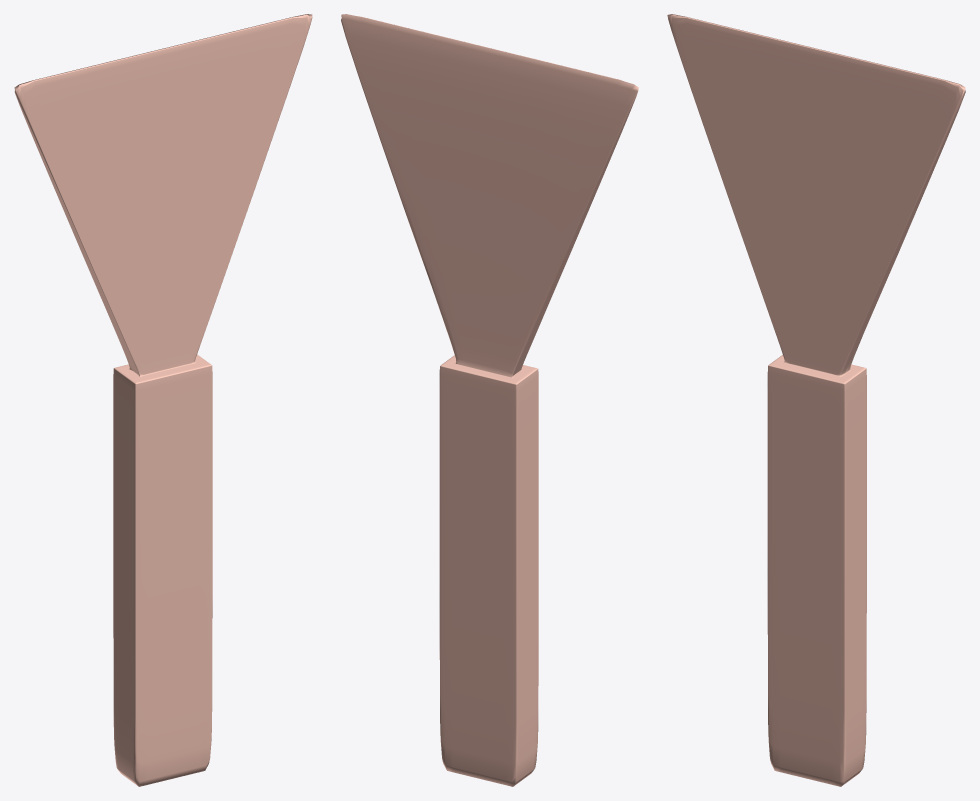
The model's file is SpatulaBronze.fbx.
3 views of the same model, side by side, from view 1: azimuth 30°, elevation 25°; view 2: azimuth 150°, elevation 25°; view 3: azimuth 330°, elevation 25° (orthographic).
Parts seen in each view (by area): view 1: pasted__pasted__HighPoly2; view 2: pasted__pasted__HighPoly2; view 3: pasted__pasted__HighPoly2.
Boxes of the visible parts, <box> form: pasted__pasted__HighPoly2: <box>14,14,312,786</box>; pasted__pasted__HighPoly2: <box>341,14,638,786</box>; pasted__pasted__HighPoly2: <box>667,14,965,786</box>.
Size of the model in its own units: 7.69 by 17.84 by 1.
